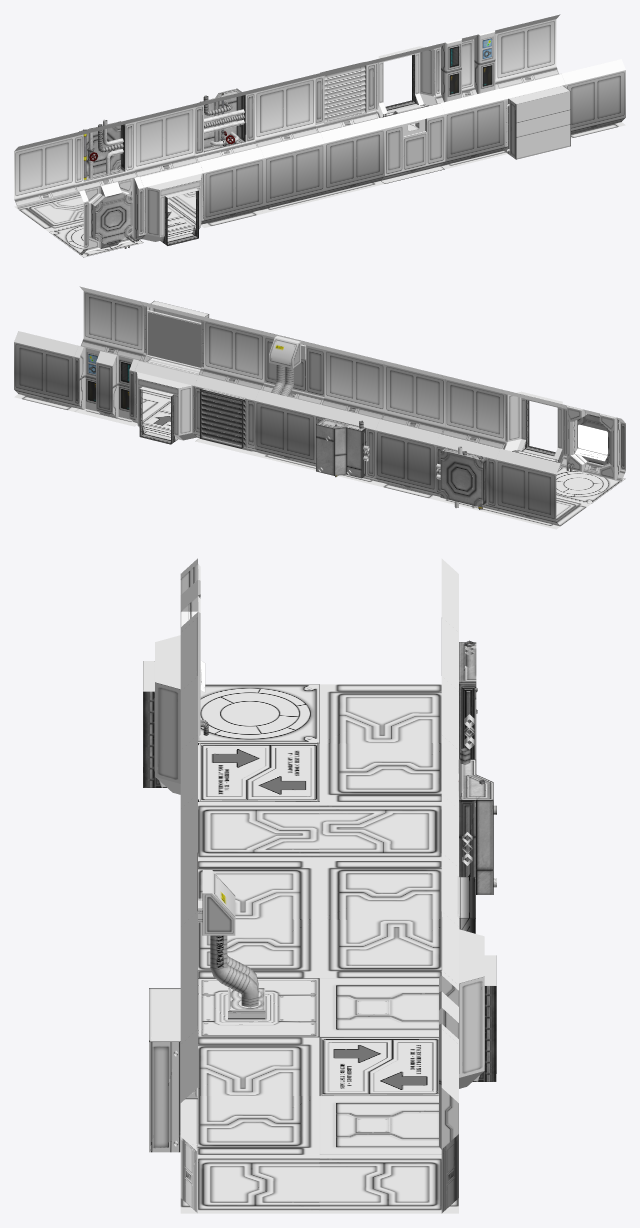
The model's file is Hallway_A.FBX.
3 views of the same model, one above another, from view 1: azimuth 30°, elevation 25°; view 2: azimuth 150°, elevation 25°; view 3: azimuth 270°, elevation 25° (orthographic). The views are drawn at different scales.
Visible parts, largest first — view 1: Sect_Wall_G_003, Sect_Wall_K_002, Sect_Wall_I_006, Sect_Wall_A4_018, Sect_Wall_A4_009, Sect_Wall_A4_008, Sect_Wall_A4_002, Sect_Wall_A4_007, Sect_Wall_E_006, Sect_Wall_D_006, Sect_Wall_J_004, Sect_Wall_A4_014 (+10 smaller); view 2: Sect_Wall_E_006, Sect_Wall_D_006, Sect_Wall_J_004, Sect_Wall_A4_018, Sect_Wall_A4_017, Sect_Wall_A4_014, Sect_Wall_B_003, Sect_Wall_A4_015, Sect_Wall_K_002, Sect_Wall_A4_007, Sect_Wall_A4_008, Sect_Wall_A4_009 (+13 smaller); view 3: Sect_Floor_BaseF_004, Sect_Floor_BaseF_022, Sect_Floor_BaseF_018, Sect_Floor_BaseF_014, Sect_Floor_BaseF_019, Sect_Floor_BaseF_020, Sect_Floor_BaseF_026, Sect_Floor_BaseF_016, Sect_Floor_BaseF_031, Sect_Floor_BaseF_021, Sect_Floor_BaseF_028, Sect_Floor_Door1_003 (+24 smaller).
Boxes of the visible parts, box(x1,y1,x2,y2) form: Sect_Wall_G_003: box(501, 74, 570, 159); Sect_Wall_K_002: box(381, 103, 445, 180); Sect_Wall_I_006: box(79, 176, 143, 254); Sect_Wall_A4_018: box(14, 132, 78, 209); Sect_Wall_A4_009: box(260, 132, 324, 210); Sect_Wall_A4_008: box(320, 118, 384, 195); Sect_Wall_A4_002: box(441, 88, 505, 165); Sect_Wall_A4_007: box(200, 147, 264, 224); Sect_Wall_E_006: box(194, 88, 258, 162); Sect_Wall_D_006: box(74, 117, 138, 194); Sect_Wall_J_004: box(315, 58, 379, 132); Sect_Wall_A4_014: box(134, 102, 198, 176); Sect_Wall_E_006: box(315, 404, 379, 482); Sect_Wall_D_006: box(436, 434, 499, 511); Sect_Wall_J_004: box(194, 375, 258, 452); Sect_Wall_A4_018: box(496, 448, 560, 526); Sect_Wall_A4_017: box(14, 331, 78, 408); Sect_Wall_A4_014: box(375, 419, 439, 496); Sect_Wall_B_003: box(74, 346, 138, 422); Sect_Wall_A4_015: box(255, 390, 319, 466); Sect_Wall_K_002: box(260, 330, 324, 404); Sect_Wall_A4_007: box(441, 374, 505, 448); Sect_Wall_A4_008: box(321, 345, 384, 419); Sect_Wall_A4_009: box(381, 360, 445, 434); Sect_Floor_BaseF_004: box(319, 1155, 458, 1213); Sect_Floor_BaseF_022: box(319, 684, 441, 743); Sect_Floor_BaseF_018: box(319, 919, 441, 978); Sect_Floor_BaseF_014: box(180, 1155, 319, 1213); Sect_Floor_BaseF_019: box(319, 861, 441, 919); Sect_Floor_BaseF_020: box(319, 802, 441, 860); Sect_Floor_BaseF_026: box(319, 743, 441, 801); Sect_Floor_BaseF_016: box(192, 1096, 319, 1154); Sect_Floor_BaseF_031: box(319, 978, 438, 1037); Sect_Floor_BaseF_021: box(198, 802, 319, 860); Sect_Floor_BaseF_028: box(198, 1037, 319, 1095); Sect_Floor_Door1_003: box(198, 743, 319, 801).
Bounding box in the file's own units: 36 × 4.48 × 10.17.
